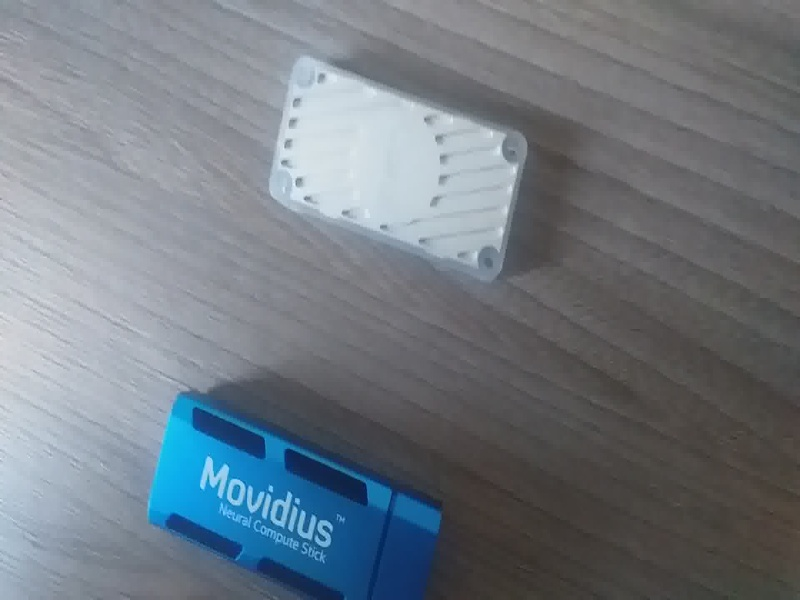coral: (265, 50, 531, 295)
movidius: (139, 387, 450, 600)
